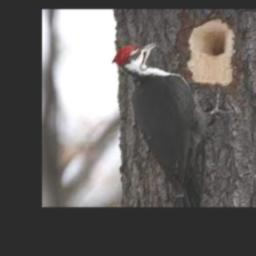Woodpecker: (112, 42, 230, 207)
